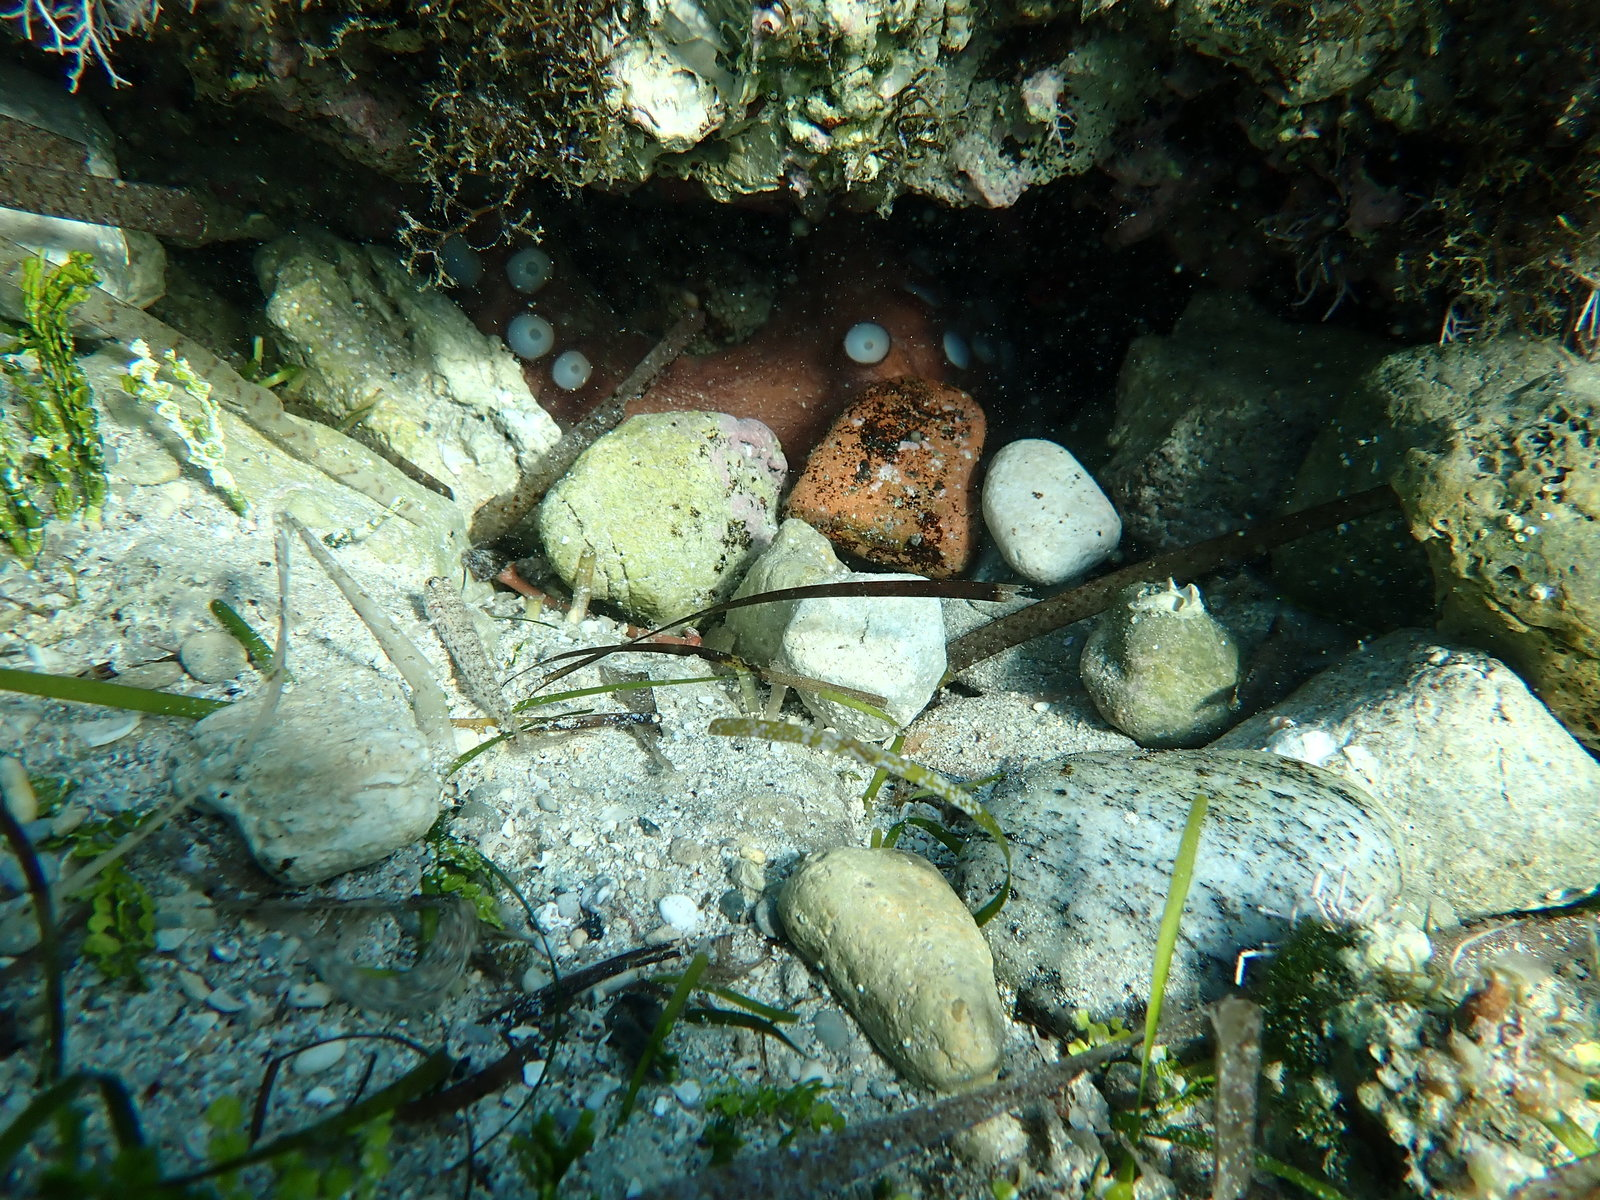halimeda: (16, 246, 110, 512), (118, 338, 251, 521), (84, 848, 157, 964), (716, 1088, 868, 1128), (436, 838, 504, 921), (517, 1112, 583, 1192), (273, 1153, 372, 1200), (3, 406, 30, 558), (357, 1116, 401, 1174), (1070, 1011, 1130, 1046), (209, 1100, 236, 1175), (994, 1179, 1020, 1195)
